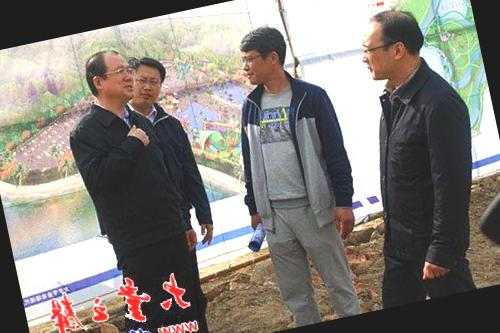no_helmet: (351, 0, 432, 87), (231, 18, 296, 91), (81, 41, 139, 110), (128, 52, 174, 107)
